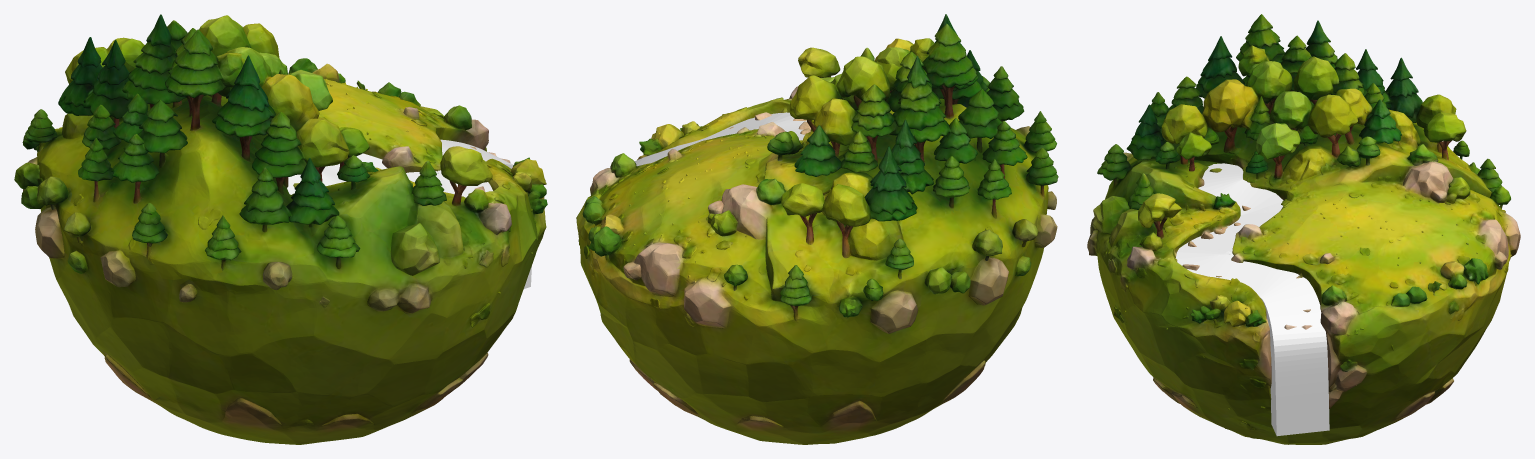
File: player_planet_base_river_guide.glb
3 views of the same model, side by side, from view 1: azimuth 30°, elevation 25°; view 2: azimuth 150°, elevation 25°; view 3: azimuth 270°, elevation 25° (orthographic). The views are drawn at different scales.
Visible parts, largest first — view 1: tripo_node_53796a8b-9979-4f89-805a-2b1569d8e02e, 圆管; view 2: tripo_node_53796a8b-9979-4f89-805a-2b1569d8e02e, 圆管; view 3: tripo_node_53796a8b-9979-4f89-805a-2b1569d8e02e, 圆管.
Part boxes in pixels (<box>): tripo_node_53796a8b-9979-4f89-805a-2b1569d8e02e: <box>14,14,547,444</box>; 圆管: <box>287,139,531,288</box>; tripo_node_53796a8b-9979-4f89-805a-2b1569d8e02e: <box>576,14,1058,444</box>; 圆管: <box>634,112,810,166</box>; tripo_node_53796a8b-9979-4f89-805a-2b1569d8e02e: <box>1087,14,1520,444</box>; 圆管: <box>1176,163,1329,436</box>.
Size of the model in its own units: 1.01 by 0.9187 by 1.
2 materials, 1 textured.
